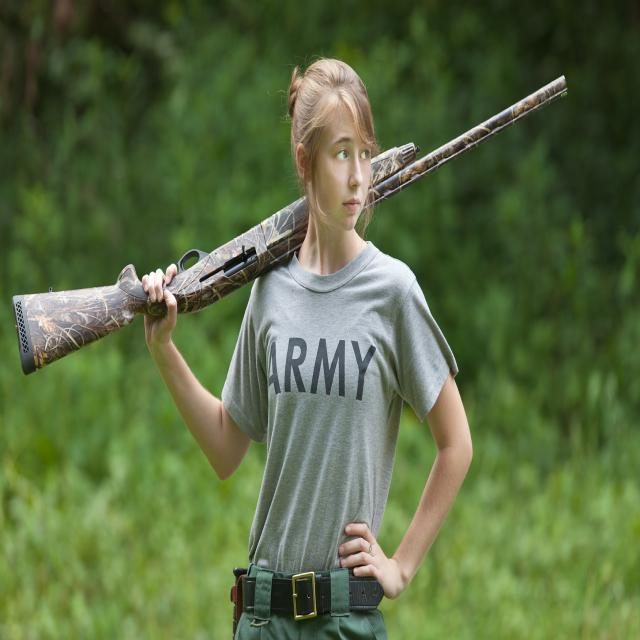ShotGun: (11, 77, 568, 374)
